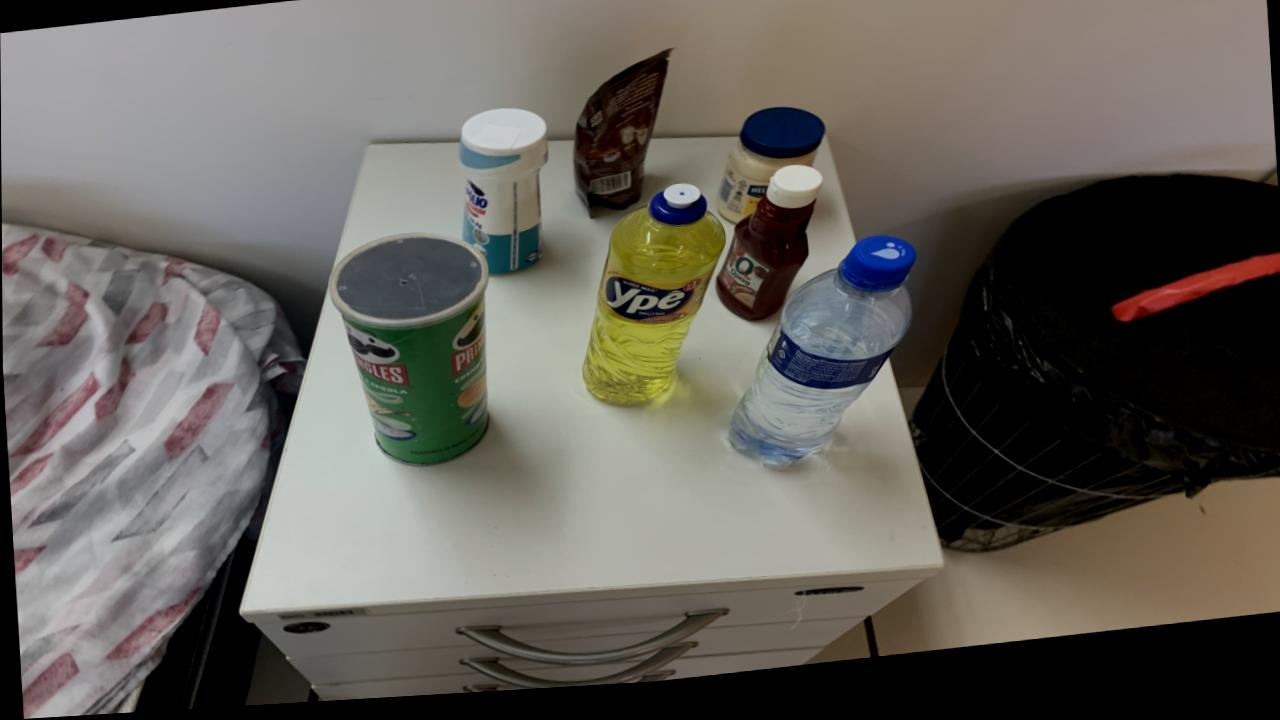Cleaner-Cleanup_Items: (456, 114, 547, 280)
Coffee-Pantry_Items: (572, 57, 671, 221)
Detergent-Cleanup_Items: (582, 192, 725, 412)
Ketchup-Pantry_Items: (715, 174, 822, 330)
Mayonnaise-Pantry_Items: (715, 117, 825, 233)
Pringles-Snacks: (328, 238, 489, 471)
Water_Bottle-Drinks: (729, 247, 915, 475)
